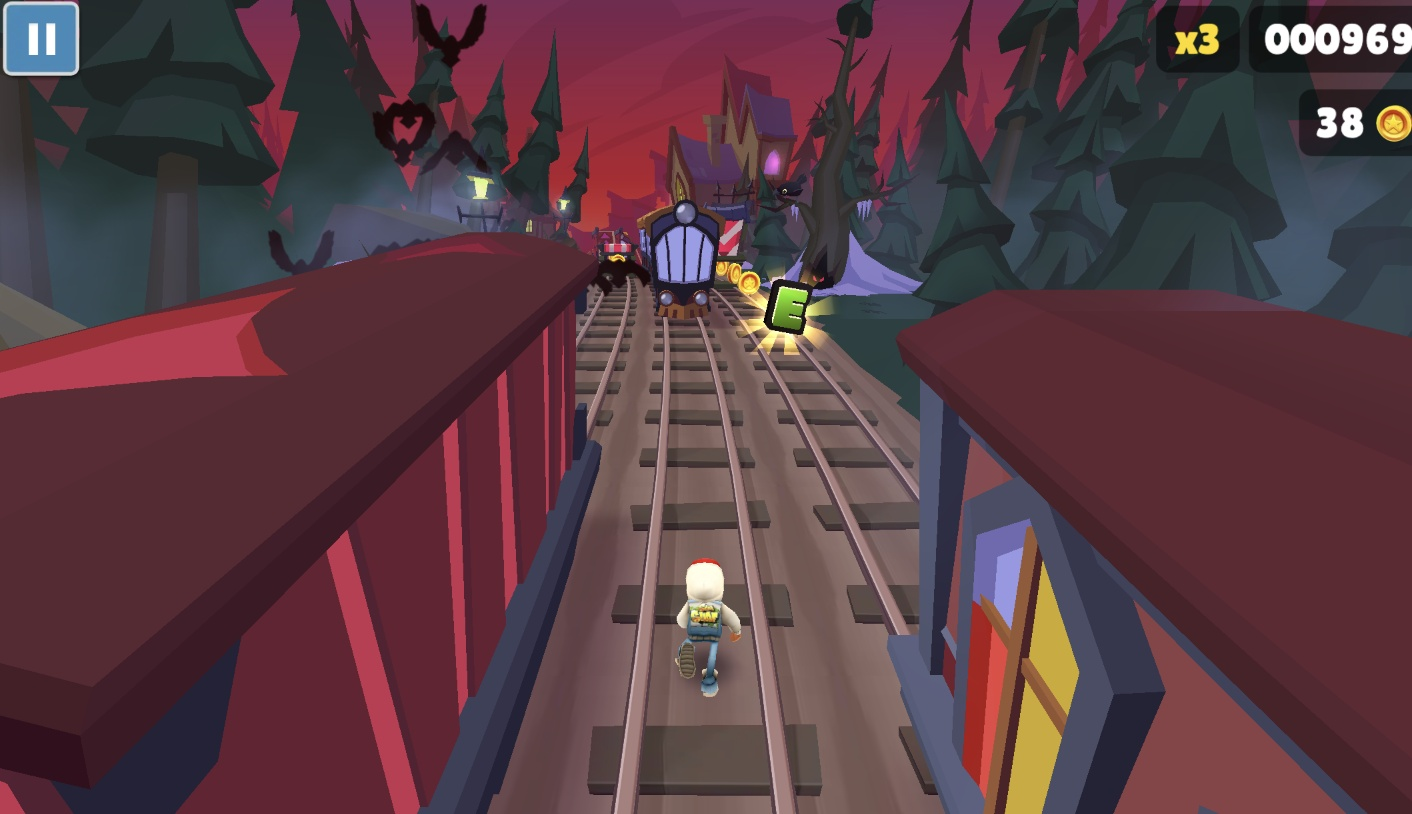ground_barrier: (596, 239, 638, 271)
overhead_barrier: (713, 211, 749, 293)
train: (0, 233, 600, 814), (900, 305, 1412, 814), (635, 198, 725, 321)
